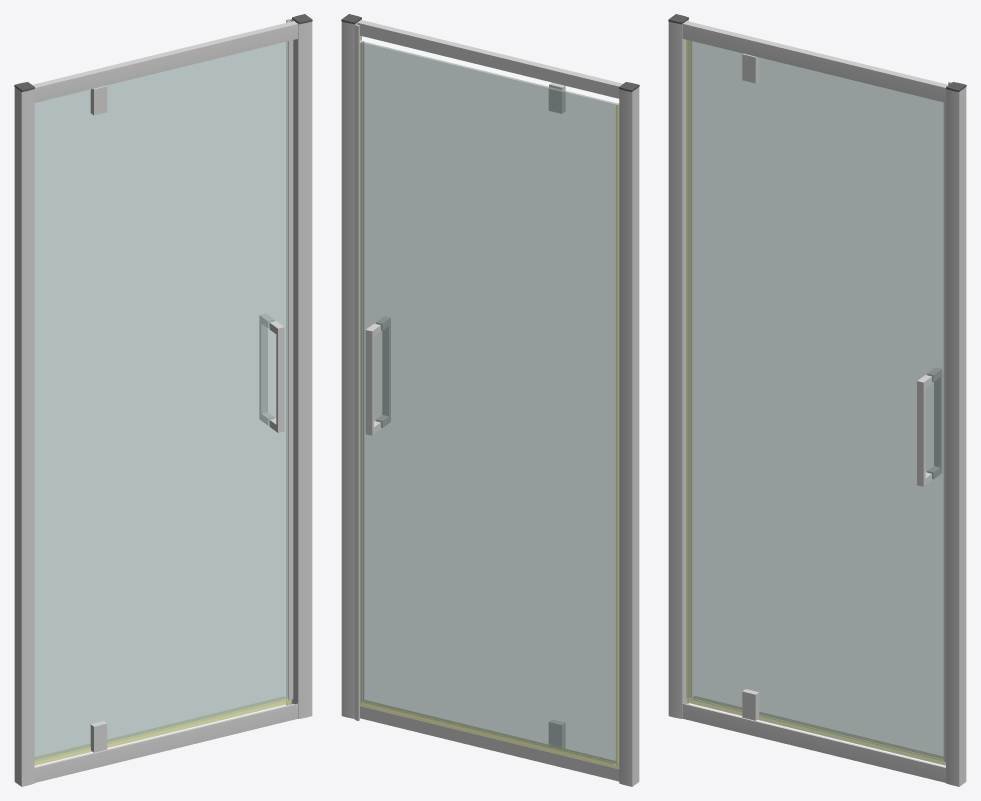
The model's file is sanitaryshower-screensideal-standardi-life-pivot-90-unhanded-door-with-ideal.fbx.
The picture shows the model from 3 angles, left to right: view 1: azimuth 30°, elevation 25°; view 2: azimuth 150°, elevation 25°; view 3: azimuth 330°, elevation 25°; orthographic projection.
Parts seen in each view (by area): view 1: L_27ec1fa8_4913_42bb_9097_b5387f3c3e11_I2, L_641ef811_ede9_4d87_b7c0_2ed592de823b_I7, L_bca8091b_3b5c_4e47_af6b_afb04ee09120_I13, L_400e0a01_41ca_4617_819a_a1d830aa131f_I5, L_d693e225_3f12_46ef_8575_5d649867cf25_I15, L_c8bf7173_7bb5_476d_9060_970c3689c0ef_I14, L_3e898b3e_090b_456b_8900_53aff1c6f540_I4, L_1f5d107d_207f_4ded_b32c_68c16385ce80_I1, L_737d8799_674e_485c_b71e_0947573e52ba_I8, L_8d18f443_2bd2_4546_a962_6efcf95dda14_I10; view 2: L_27ec1fa8_4913_42bb_9097_b5387f3c3e11_I2, L_641ef811_ede9_4d87_b7c0_2ed592de823b_I7, L_bca8091b_3b5c_4e47_af6b_afb04ee09120_I13, L_d693e225_3f12_46ef_8575_5d649867cf25_I15, L_3e898b3e_090b_456b_8900_53aff1c6f540_I4, L_c8bf7173_7bb5_476d_9060_970c3689c0ef_I14, L_91da4b59_5005_4774_b28e_eda00799eadb_I11, L_400e0a01_41ca_4617_819a_a1d830aa131f_I5, L_1f5d107d_207f_4ded_b32c_68c16385ce80_I1, L_8d18f443_2bd2_4546_a962_6efcf95dda14_I10, L_737d8799_674e_485c_b71e_0947573e52ba_I8, L_5b9728d7_8b88_4e2c_8c41_becb14d91792_I6 (+1 smaller); view 3: L_27ec1fa8_4913_42bb_9097_b5387f3c3e11_I2, L_bca8091b_3b5c_4e47_af6b_afb04ee09120_I13, L_641ef811_ede9_4d87_b7c0_2ed592de823b_I7, L_d693e225_3f12_46ef_8575_5d649867cf25_I15, L_c8bf7173_7bb5_476d_9060_970c3689c0ef_I14, L_91da4b59_5005_4774_b28e_eda00799eadb_I11, L_1f5d107d_207f_4ded_b32c_68c16385ce80_I1, L_400e0a01_41ca_4617_819a_a1d830aa131f_I5, L_737d8799_674e_485c_b71e_0947573e52ba_I8, L_8d18f443_2bd2_4546_a962_6efcf95dda14_I10, L_3e898b3e_090b_456b_8900_53aff1c6f540_I4.
Part boxes in pixels (x1,y1,x2,y2): L_27ec1fa8_4913_42bb_9097_b5387f3c3e11_I2: (34,41,288,761); L_641ef811_ede9_4d87_b7c0_2ed592de823b_I7: (14,87,34,786); L_bca8091b_3b5c_4e47_af6b_afb04ee09120_I13: (298,21,312,718); L_400e0a01_41ca_4617_819a_a1d830aa131f_I5: (286,40,293,700); L_d693e225_3f12_46ef_8575_5d649867cf25_I15: (32,21,297,102); L_c8bf7173_7bb5_476d_9060_970c3689c0ef_I14: (34,703,297,782); L_3e898b3e_090b_456b_8900_53aff1c6f540_I4: (286,19,298,718); L_1f5d107d_207f_4ded_b32c_68c16385ce80_I1: (34,696,292,765); L_737d8799_674e_485c_b71e_0947573e52ba_I8: (269,321,284,432); L_8d18f443_2bd2_4546_a962_6efcf95dda14_I10: (259,313,274,425); L_27ec1fa8_4913_42bb_9097_b5387f3c3e11_I2: (361,41,618,763); L_641ef811_ede9_4d87_b7c0_2ed592de823b_I7: (619,87,639,786); L_bca8091b_3b5c_4e47_af6b_afb04ee09120_I13: (341,21,354,718); L_d693e225_3f12_46ef_8575_5d649867cf25_I15: (357,20,622,98); L_3e898b3e_090b_456b_8900_53aff1c6f540_I4: (354,19,361,720); L_c8bf7173_7bb5_476d_9060_970c3689c0ef_I14: (360,703,619,781); L_91da4b59_5005_4774_b28e_eda00799eadb_I11: (615,103,619,764); L_400e0a01_41ca_4617_819a_a1d830aa131f_I5: (360,40,364,702); L_1f5d107d_207f_4ded_b32c_68c16385ce80_I1: (360,700,619,769); L_8d18f443_2bd2_4546_a962_6efcf95dda14_I10: (365,323,380,435); L_737d8799_674e_485c_b71e_0947573e52ba_I8: (376,316,390,427); L_5b9728d7_8b88_4e2c_8c41_becb14d91792_I6: (357,24,359,719); L_27ec1fa8_4913_42bb_9097_b5387f3c3e11_I2: (689,40,943,760); L_bca8091b_3b5c_4e47_af6b_afb04ee09120_I13: (946,87,966,786); L_641ef811_ede9_4d87_b7c0_2ed592de823b_I7: (668,19,688,718); L_d693e225_3f12_46ef_8575_5d649867cf25_I15: (682,21,948,102); L_c8bf7173_7bb5_476d_9060_970c3689c0ef_I14: (682,703,945,782); L_91da4b59_5005_4774_b28e_eda00799eadb_I11: (686,39,691,699); L_1f5d107d_207f_4ded_b32c_68c16385ce80_I1: (687,696,945,765); L_400e0a01_41ca_4617_819a_a1d830aa131f_I5: (943,102,945,761); L_737d8799_674e_485c_b71e_0947573e52ba_I8: (917,375,931,486); L_8d18f443_2bd2_4546_a962_6efcf95dda14_I10: (927,367,941,478); L_3e898b3e_090b_456b_8900_53aff1c6f540_I4: (946,82,951,782).
Bounding box in the file's own units: 875 × 98 × 2005.
